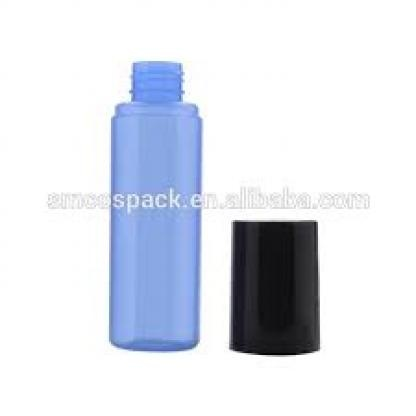trash: (110, 61, 201, 350), (230, 221, 319, 353)
